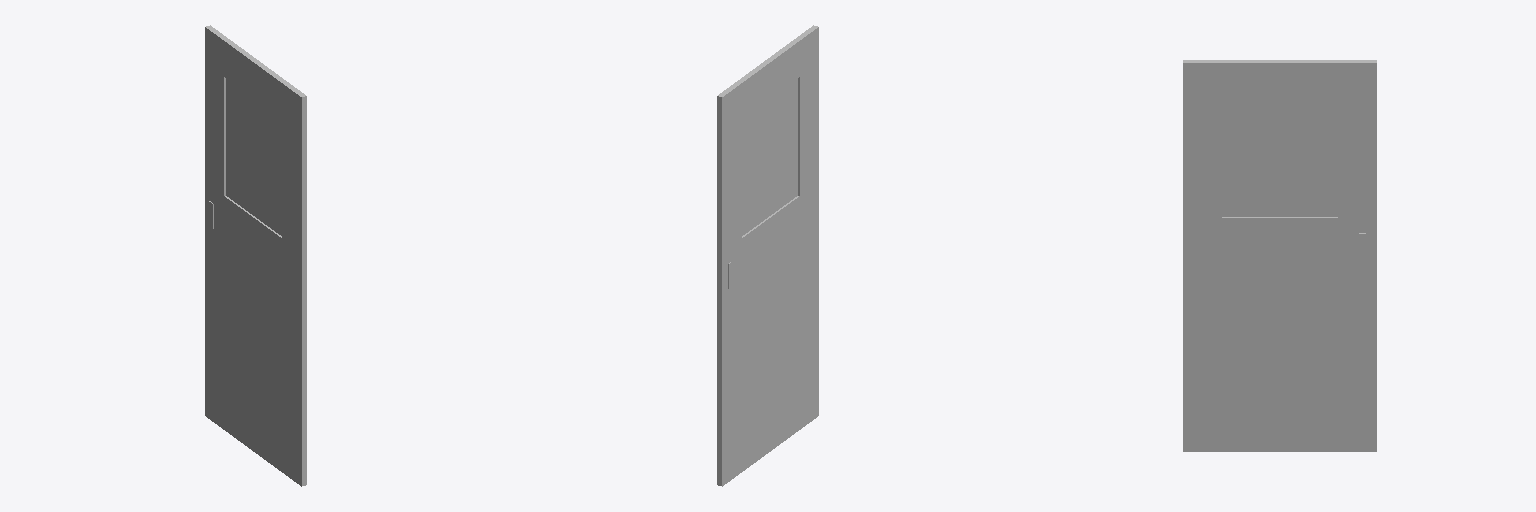
File: hor1 door.obj
3 views of the same model, side by side, from view 1: azimuth 30°, elevation 25°; view 2: azimuth 150°, elevation 25°; view 3: azimuth 270°, elevation 25° (orthographic).
Visible parts, largest first — view 1: Plane.002_Plane.015; view 2: Plane.002_Plane.015; view 3: Plane.002_Plane.015.
Part boxes in pixels (bbox=[...]): Plane.002_Plane.015: bbox=[205, 25, 306, 486]; Plane.002_Plane.015: bbox=[717, 25, 818, 486]; Plane.002_Plane.015: bbox=[1183, 60, 1376, 451].
Size of the model in its own units: 0.04 by 2 by 0.9.